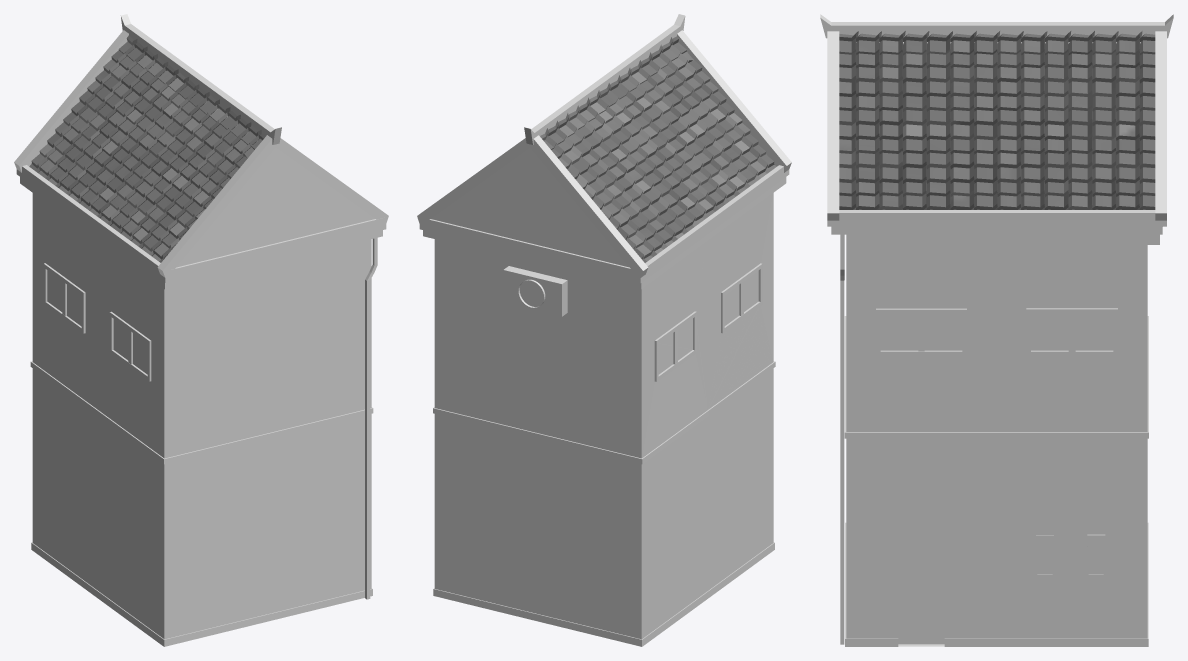
Rendered from Casa2.fbx.
3 renders of one model, left to right at view 1: azimuth 30°, elevation 25°; view 2: azimuth 150°, elevation 25°; view 3: azimuth 270°, elevation 25°, orthographic. The views are drawn at different scales.
Visible parts, largest first — view 1: Casa2; view 2: Casa2; view 3: Casa2.
Part boxes in pixels (left/top/right/bottom): Casa2: left=14, top=14, right=388, bottom=646; Casa2: left=417, top=14, right=791, bottom=646; Casa2: left=820, top=14, right=1173, bottom=646.
Size of the model in its own units: 992 by 2102 by 1175.
